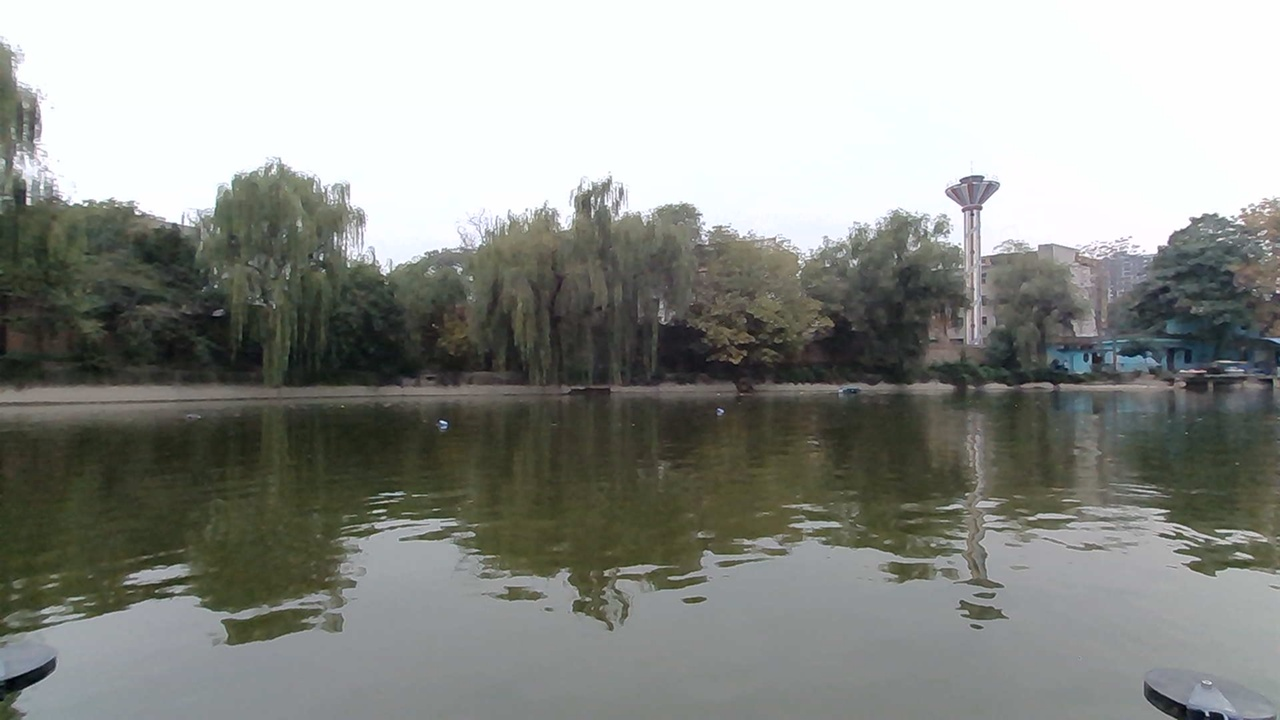bottle: (426, 406, 468, 435), (705, 398, 736, 419), (178, 407, 206, 428)
